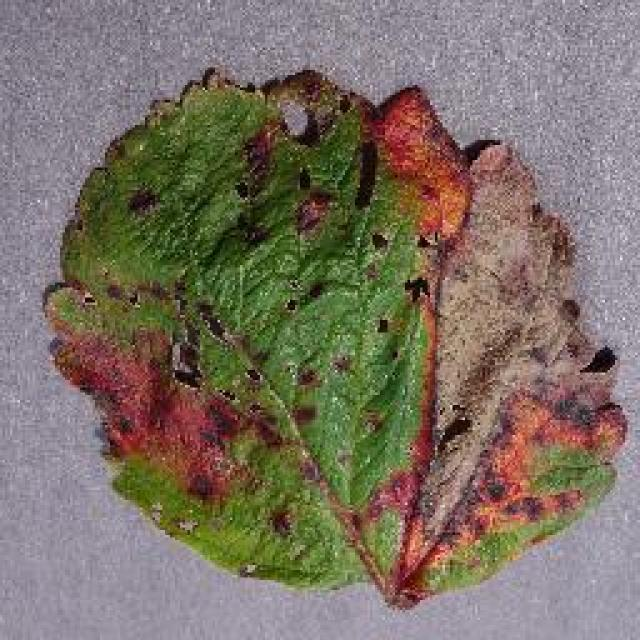Strawberry leaf scorch: (97, 136, 580, 542)
